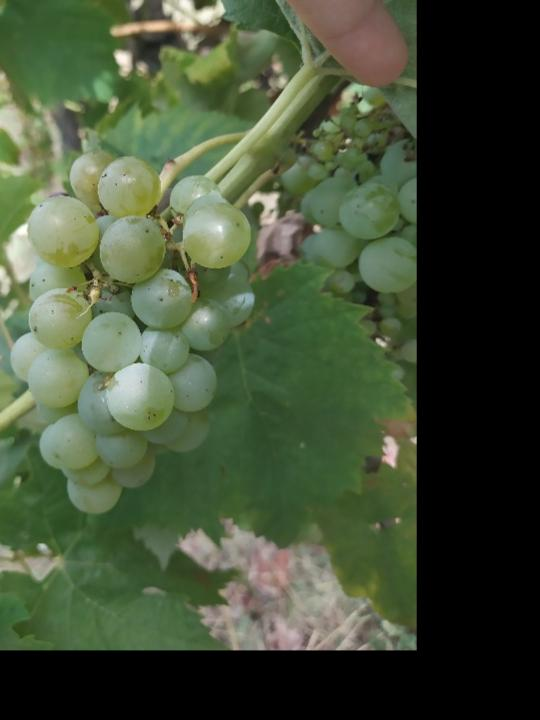grape: (7, 147, 258, 518)
